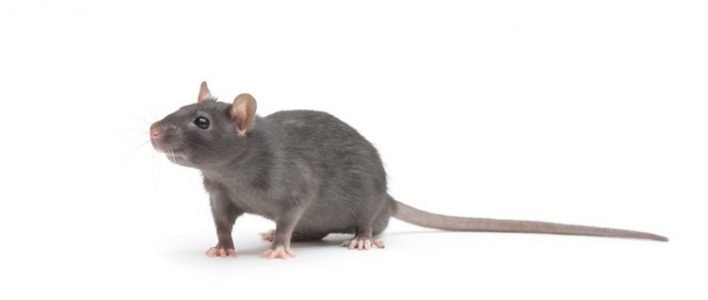rat: (135, 74, 471, 263)
